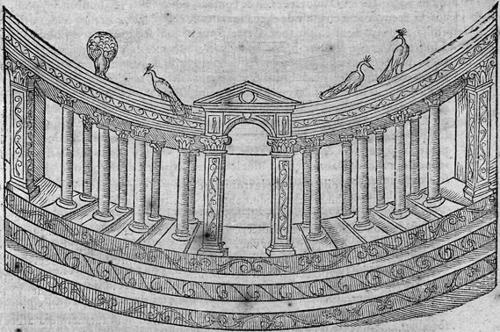bird: (319, 58, 373, 101), (144, 67, 188, 118), (376, 28, 411, 86)
